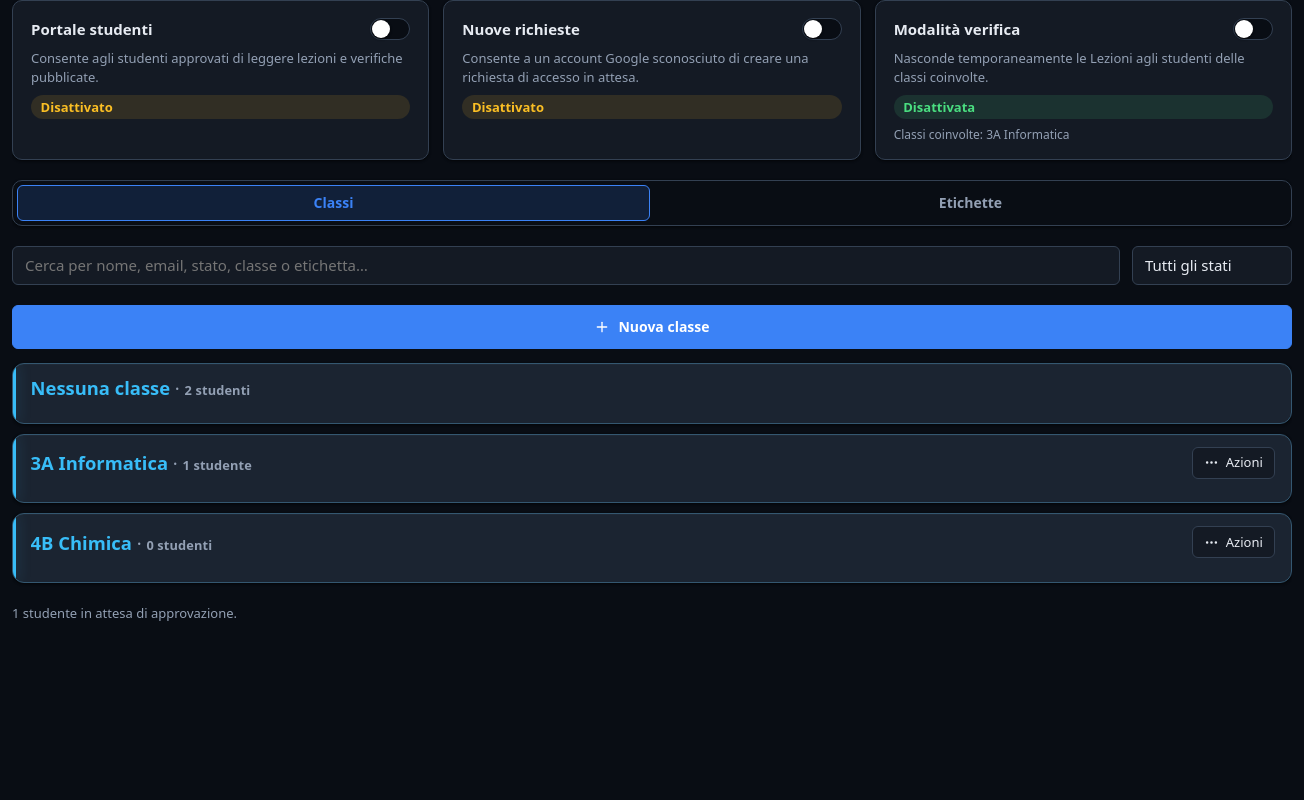
StudentsView — tabs Studenti/Classi (DUX-05A) › mostra Primo e Ultimo accesso come riquadri, con data e ora, e «—» sui legacy
Step 1. Type "@" into the field named "Cerca studenti" → (566,265), box [12,246,1120,284]
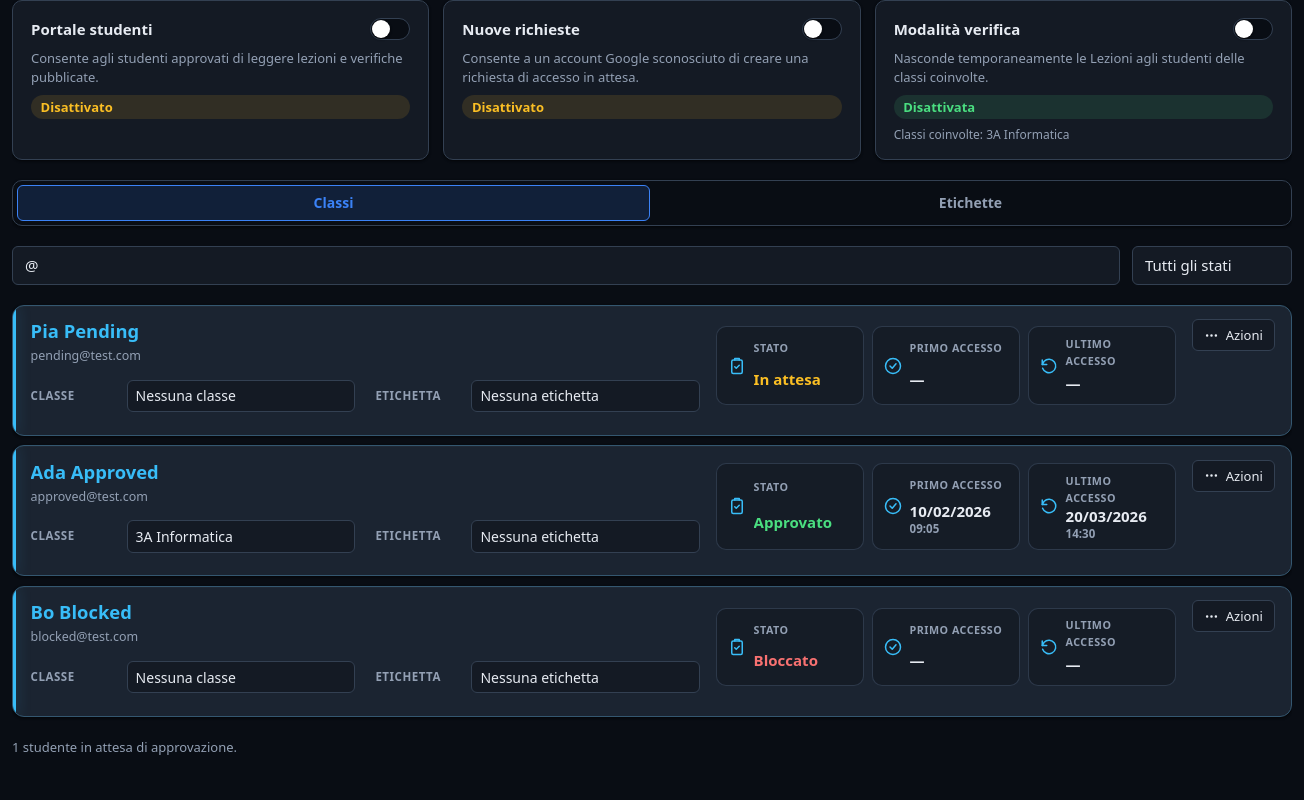
Expected: the heading "Ada Approved" is shown, [31,459,159,484]
